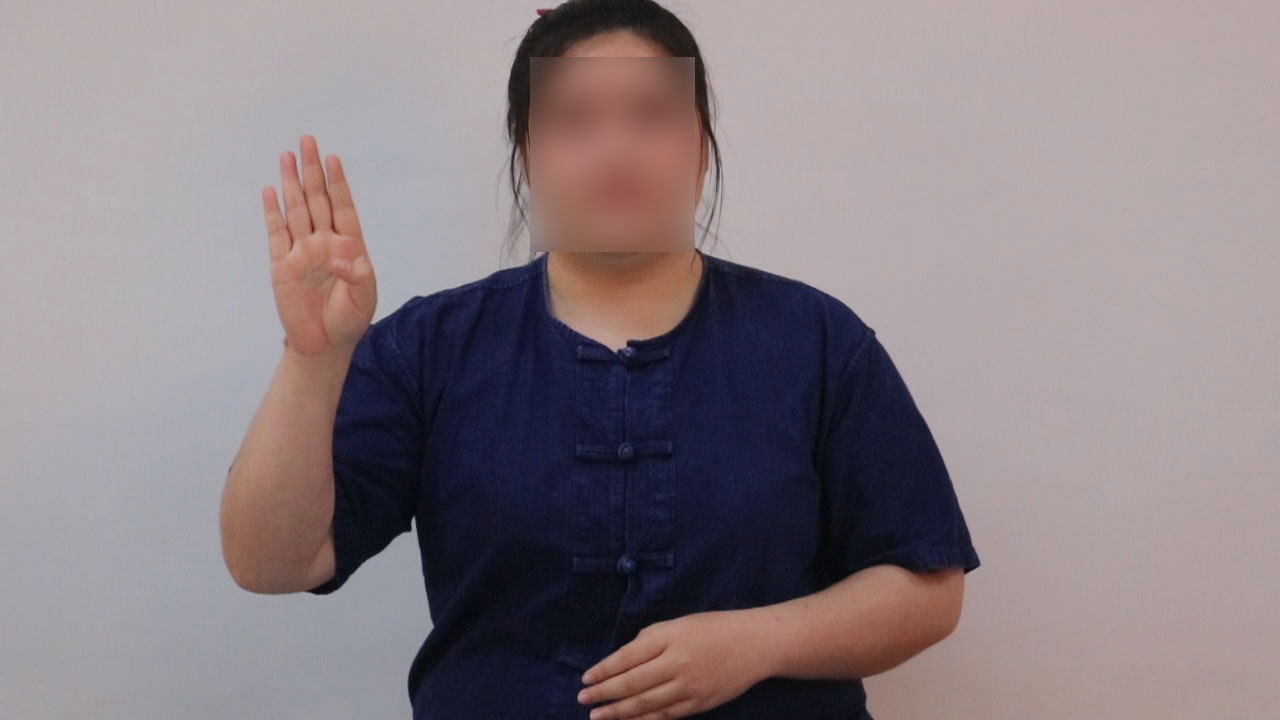bor: (248, 110, 394, 386)
